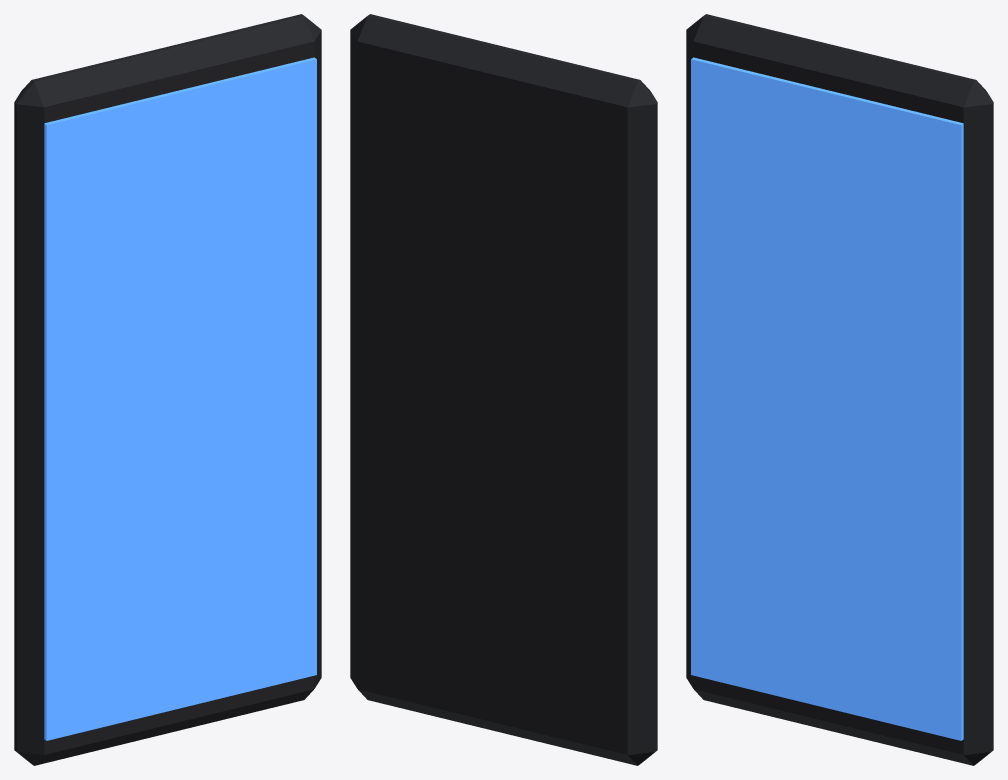
Rendered from smartphone.glb.
The picture shows the model from 3 angles, left to right: view 1: azimuth 30°, elevation 25°; view 2: azimuth 150°, elevation 25°; view 3: azimuth 330°, elevation 25°; orthographic projection.
Visible parts, largest first — view 1: smartphone_screen, smartphone; view 2: smartphone; view 3: smartphone_screen, smartphone.
Part boxes in pixels (x1,y1,x2,y2): smartphone_screen: [44, 57, 316, 740]; smartphone: [14, 14, 321, 765]; smartphone: [350, 14, 657, 765]; smartphone_screen: [691, 57, 963, 740]; smartphone: [686, 14, 993, 765].
Bounding box in the file's own units: 0.07 × 0.15 × 0.01.
Materials: 2 (1 with a texture image).
